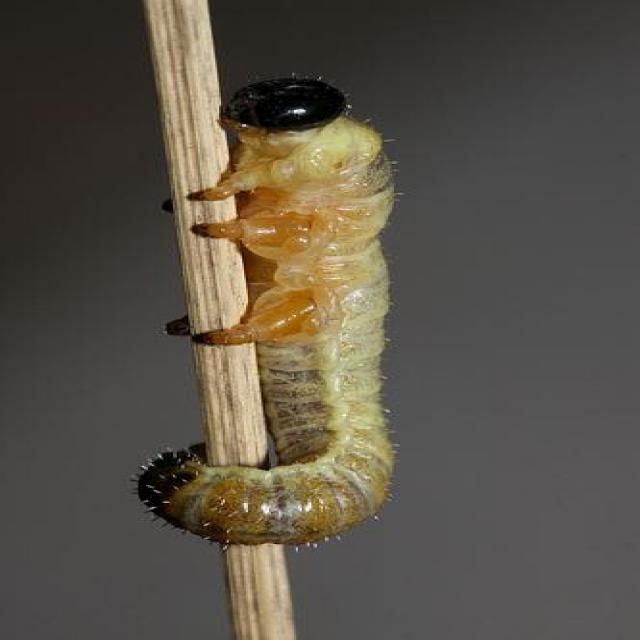Grub-Adult-: (94, 66, 447, 552)
